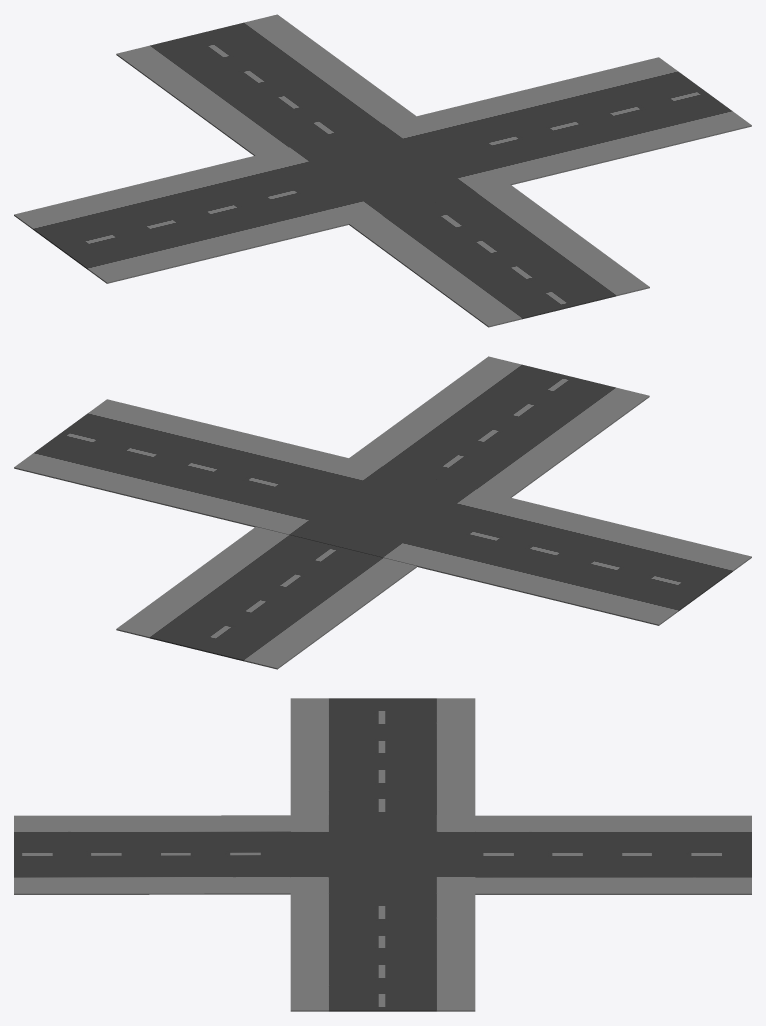
Rendered from Road_X.fbx.
The picture shows the model from 3 angles, top to bottom: view 1: azimuth 30°, elevation 25°; view 2: azimuth 150°, elevation 25°; view 3: azimuth 270°, elevation 25°; orthographic projection.
Parts seen in each view (by area): view 1: pPlane58; view 2: pPlane58; view 3: pPlane58.
Part boxes in pixels (x1=…): pPlane58: x1=14, y1=14, x2=751, y2=327; pPlane58: x1=14, y1=356, x2=751, y2=669; pPlane58: x1=14, y1=698, x2=751, y2=1011.
Size of the model in its own units: 8 by 0.0199 by 8.
